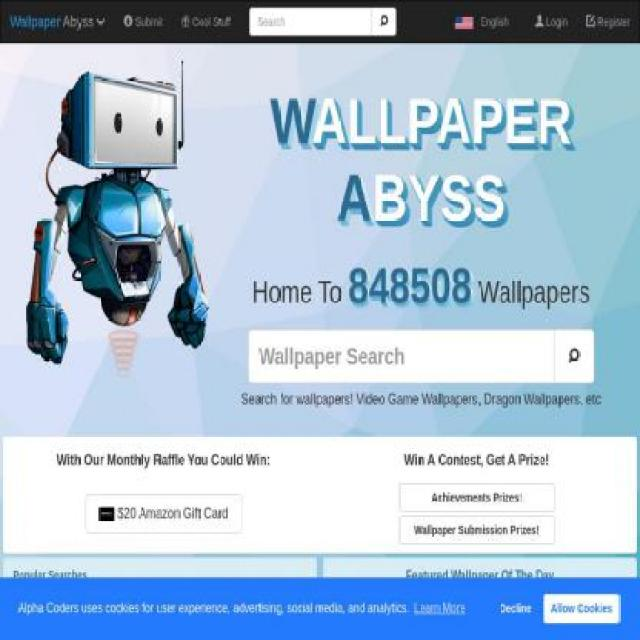button: (3, 592, 317, 630), (370, 595, 590, 639), (85, 493, 242, 535), (0, 0, 115, 42), (398, 516, 556, 544), (398, 484, 556, 511), (2, 628, 318, 640), (445, 1, 526, 42), (172, 1, 239, 42), (576, 1, 639, 42), (114, 1, 172, 42), (525, 1, 577, 42), (412, 596, 468, 622)
field: (248, 329, 554, 383), (250, 7, 372, 36)
